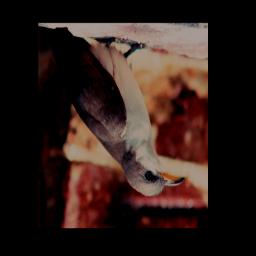Cuckoo: (42, 25, 185, 197)
